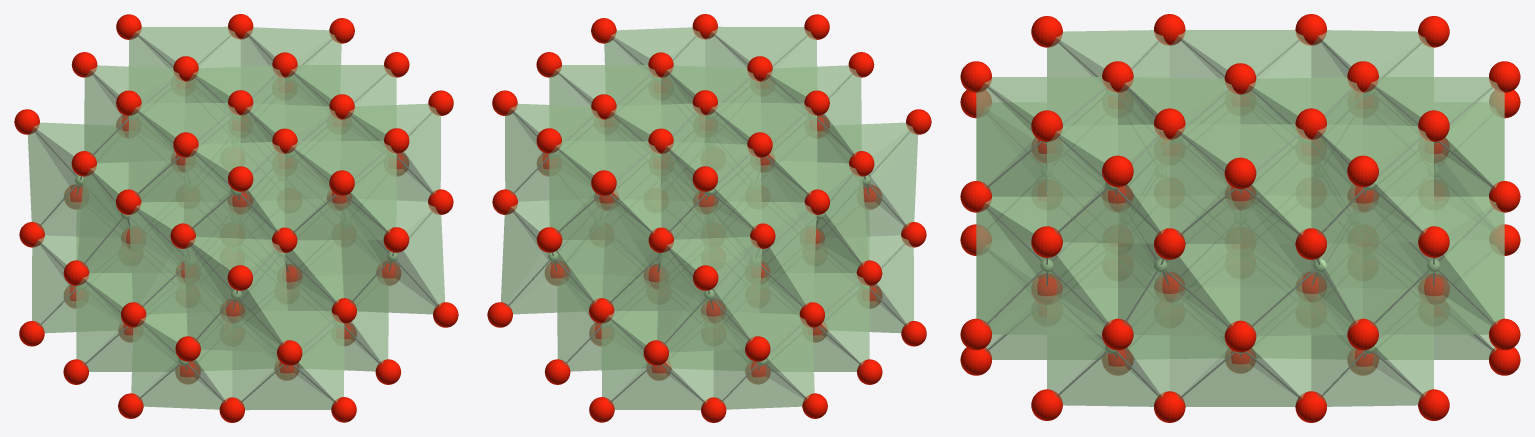
The model's file is Li2MnO3.fbx.
3 renders of one model, left to right at view 1: azimuth 30°, elevation 25°; view 2: azimuth 150°, elevation 25°; view 3: azimuth 270°, elevation 25°, orthographic. The views are drawn at different scales.
Parts seen in each view (by area): view 1: Shape_IndexedFaceSet.077, Shape_IndexedFaceSet.093, Shape_IndexedFaceSet.013, Shape_IndexedFaceSet.005, Shape_IndexedFaceSet.095, Shape_IndexedFaceSet.103, Shape_IndexedFaceSet.150, Shape_IndexedFaceSet.206, Shape_IndexedFaceSet.072, Shape_IndexedFaceSet.088, Shape_IndexedFaceSet.214, Shape_IndexedFaceSet.151 (+165 smaller); view 2: Shape_IndexedFaceSet.086, Shape_IndexedFaceSet.102, Shape_IndexedFaceSet.030, Shape_IndexedFaceSet.022, Shape_IndexedFaceSet.103, Shape_IndexedFaceSet.095, Shape_IndexedFaceSet.133, Shape_IndexedFaceSet.238, Shape_IndexedFaceSet.080, Shape_IndexedFaceSet.096, Shape_IndexedFaceSet.246, Shape_IndexedFaceSet.135 (+165 smaller); view 3: Shape_IndexedFaceSet.072, Shape_IndexedFaceSet.080, Shape_IndexedFaceSet.120, Shape_IndexedFaceSet.136, Shape_IndexedFaceSet.040, Shape_IndexedFaceSet.032, Shape_IndexedFaceSet.073, Shape_IndexedFaceSet.082, Shape_IndexedFaceSet.086, Shape_IndexedFaceSet.077, Shape_IndexedFaceSet.192, Shape_IndexedFaceSet.224 (+154 smaller).
Part boxes in pixels (box(x1,y1,x2,y2)): Shape_IndexedFaceSet.077: box(350, 250, 439, 314); Shape_IndexedFaceSet.093: box(194, 288, 283, 352); Shape_IndexedFaceSet.013: box(292, 192, 388, 240); Shape_IndexedFaceSet.005: box(240, 362, 336, 410); Shape_IndexedFaceSet.095: box(184, 241, 232, 340); Shape_IndexedFaceSet.103: box(28, 127, 76, 226); Shape_IndexedFaceSet.150: box(129, 212, 181, 306); Shape_IndexedFaceSet.206: box(138, 358, 225, 409); Shape_IndexedFaceSet.072: box(395, 213, 444, 306); Shape_IndexedFaceSet.088: box(239, 251, 288, 344); Shape_IndexedFaceSet.214: box(191, 188, 278, 239); Shape_IndexedFaceSet.151: box(129, 207, 175, 305); Shape_IndexedFaceSet.086: box(506, 250, 595, 314); Shape_IndexedFaceSet.102: box(662, 288, 751, 352); Shape_IndexedFaceSet.030: box(557, 192, 653, 240); Shape_IndexedFaceSet.022: box(609, 362, 705, 410); Shape_IndexedFaceSet.103: box(713, 241, 761, 340); Shape_IndexedFaceSet.095: box(869, 127, 917, 226); Shape_IndexedFaceSet.133: box(764, 212, 816, 306); Shape_IndexedFaceSet.238: box(720, 358, 807, 409); Shape_IndexedFaceSet.080: box(501, 213, 550, 306); Shape_IndexedFaceSet.096: box(657, 251, 706, 344); Shape_IndexedFaceSet.246: box(667, 188, 754, 239); Shape_IndexedFaceSet.135: box(770, 207, 816, 305); Shape_IndexedFaceSet.072: box(984, 255, 1109, 334); Shape_IndexedFaceSet.080: box(1371, 255, 1496, 334); Shape_IndexedFaceSet.120: box(1249, 257, 1356, 336); Shape_IndexedFaceSet.136: box(1124, 257, 1231, 336); Shape_IndexedFaceSet.040: box(1179, 185, 1301, 243); Shape_IndexedFaceSet.032: box(1179, 348, 1301, 406); Shape_IndexedFaceSet.073: box(976, 202, 1036, 323); Shape_IndexedFaceSet.082: box(1444, 202, 1504, 323); Shape_IndexedFaceSet.086: box(1442, 210, 1504, 325); Shape_IndexedFaceSet.077: box(976, 210, 1038, 325); Shape_IndexedFaceSet.192: box(1056, 183, 1161, 243); Shape_IndexedFaceSet.224: box(1319, 183, 1424, 243).
Bounding box in the file's own units: 1082 × 762 × 1236.
